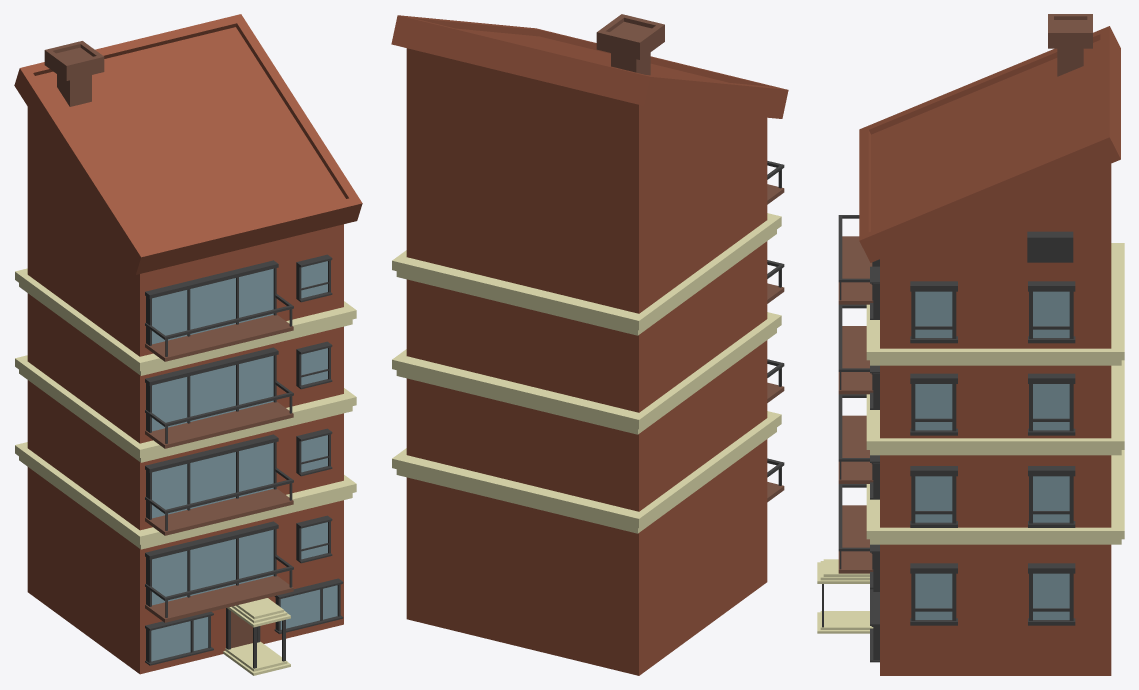
Rendered from building3_textured.fbx.
The picture shows the model from 3 angles, left to right: view 1: azimuth 30°, elevation 25°; view 2: azimuth 150°, elevation 25°; view 3: azimuth 270°, elevation 25°; orthographic projection. The views are drawn at different scales.
Parts seen in each view (by area): view 1: polySurface667; view 2: polySurface667; view 3: polySurface667.
Boxes of the visible parts, x1,y1,x2,y2 form: polySurface667: [14, 14, 362, 675]; polySurface667: [391, 14, 788, 675]; polySurface667: [817, 14, 1124, 675].
Bounding box in the file's own units: 13.89 × 32.32 × 15.98.
